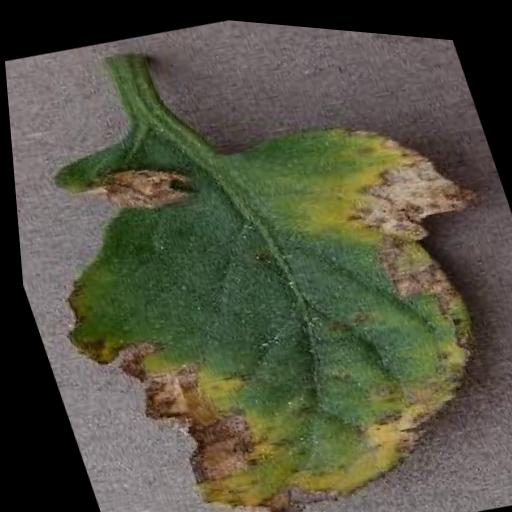Bacterial Spot: (2, 28, 512, 512)
